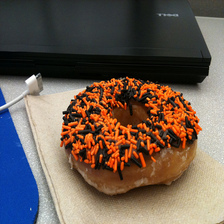laptop: (1, 1, 217, 96)
